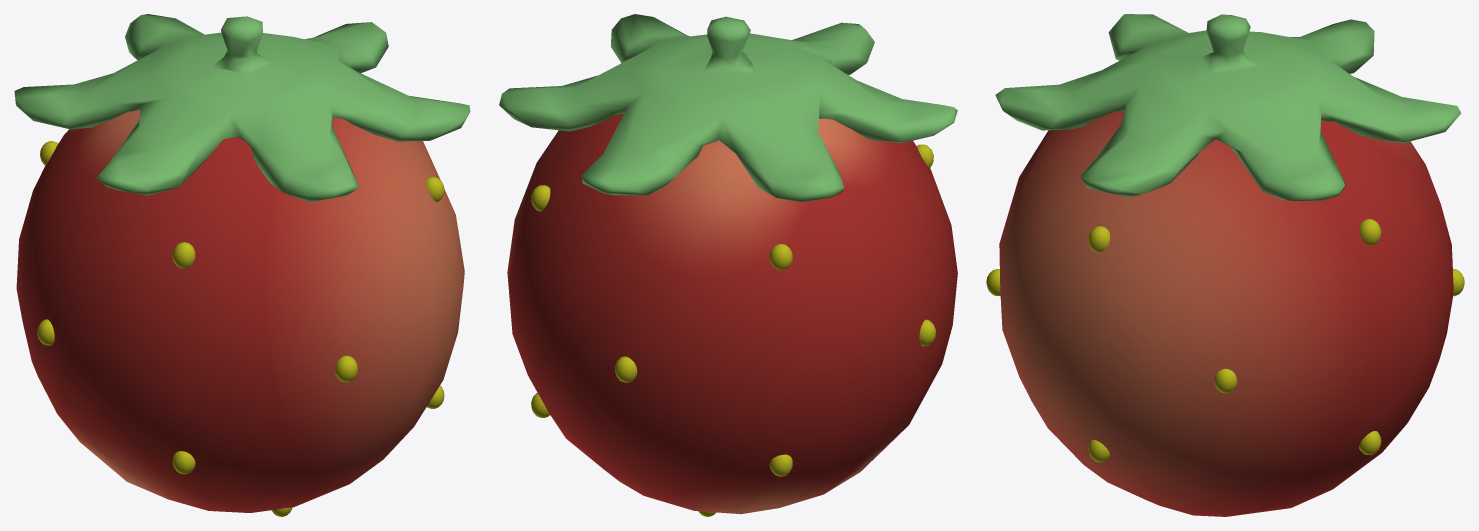
The model's file is Strawberry_bake01.fbx.
3 renders of one model, left to right at view 1: azimuth 30°, elevation 25°; view 2: azimuth 150°, elevation 25°; view 3: azimuth 270°, elevation 25°, orthographic.
Parts seen in each view (by area): view 1: hata; view 2: hata; view 3: hata.
Part boxes in pixels (bbox=[...]): hata: bbox=[14, 14, 470, 512]; hata: bbox=[499, 14, 957, 514]; hata: bbox=[995, 14, 1461, 516].
Size of the model in its own units: 83.1 by 93.25 by 84.32.
